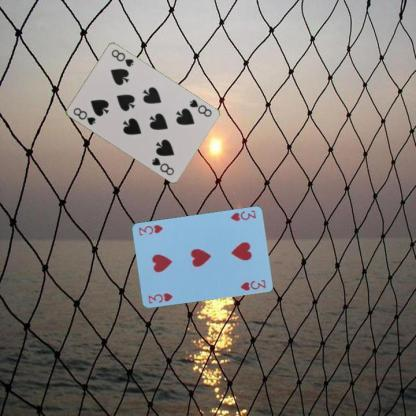3h: (228, 208, 257, 223), (146, 290, 174, 304)
8s: (70, 105, 96, 127), (186, 97, 212, 119)
